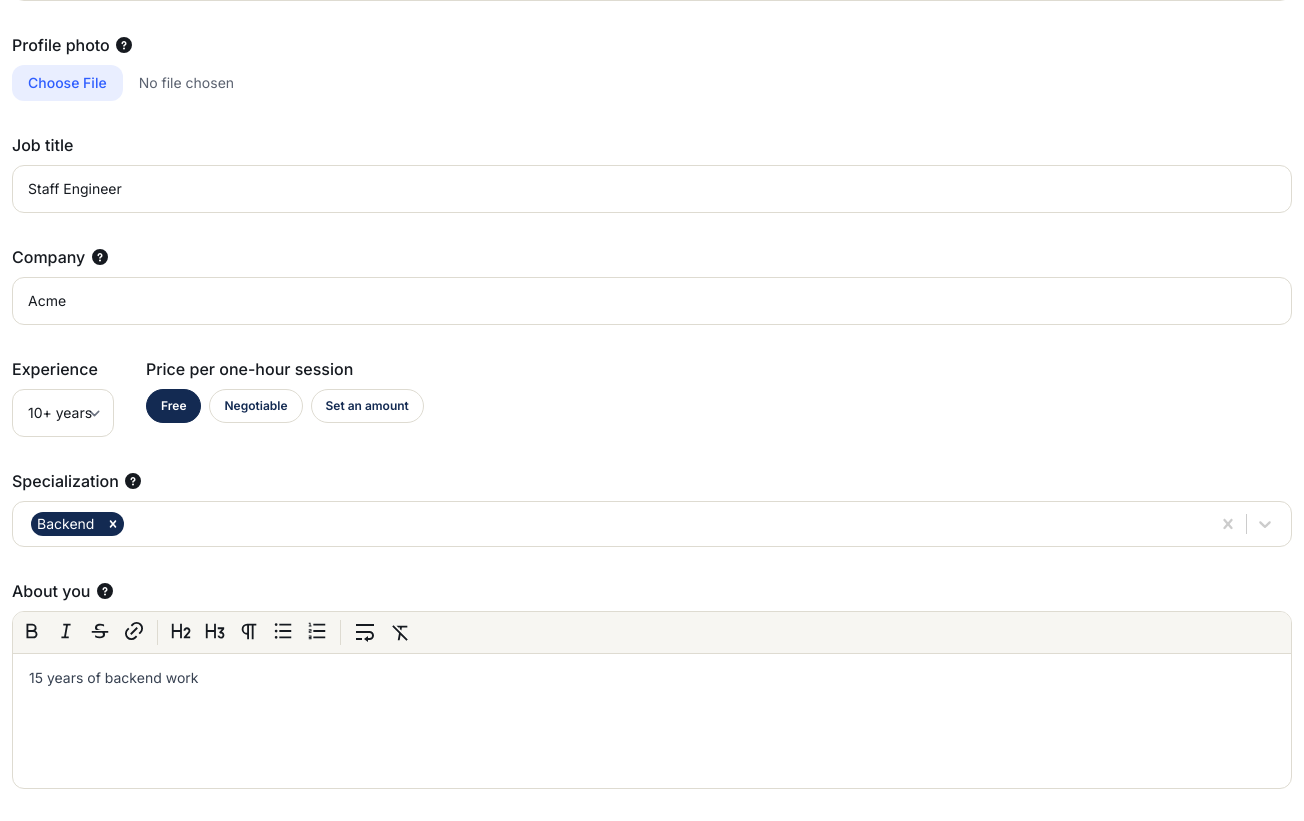
it: ProfileForm › refuses to save the out-of-range amount $
Click the radio button with aria-label "Set a fixed amount": coordinates (367, 406) top-left (310, 389), bottom-right (424, 423)
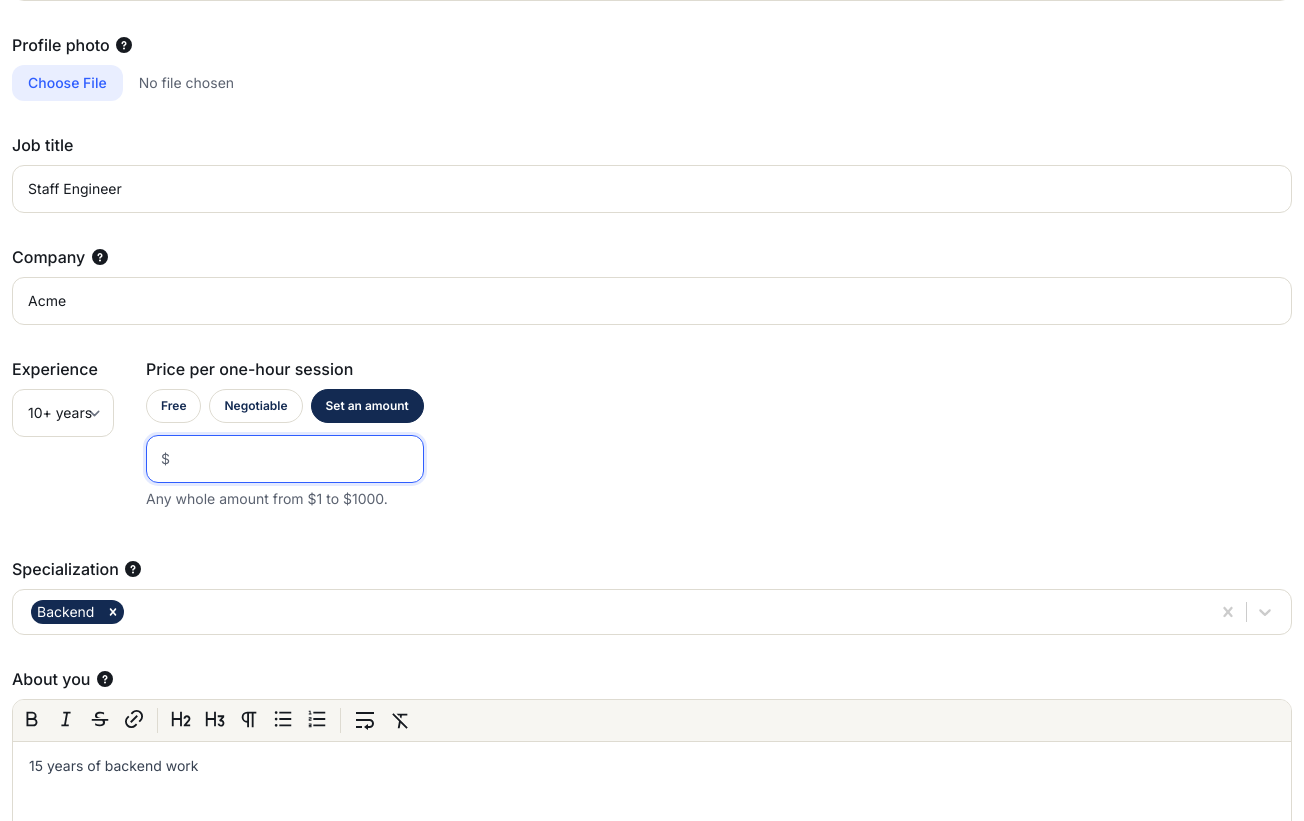
In the field named "Price in US dollars": coordinates (285, 459) top-left (146, 435), bottom-right (424, 483), type "$0"
(page scrolled)
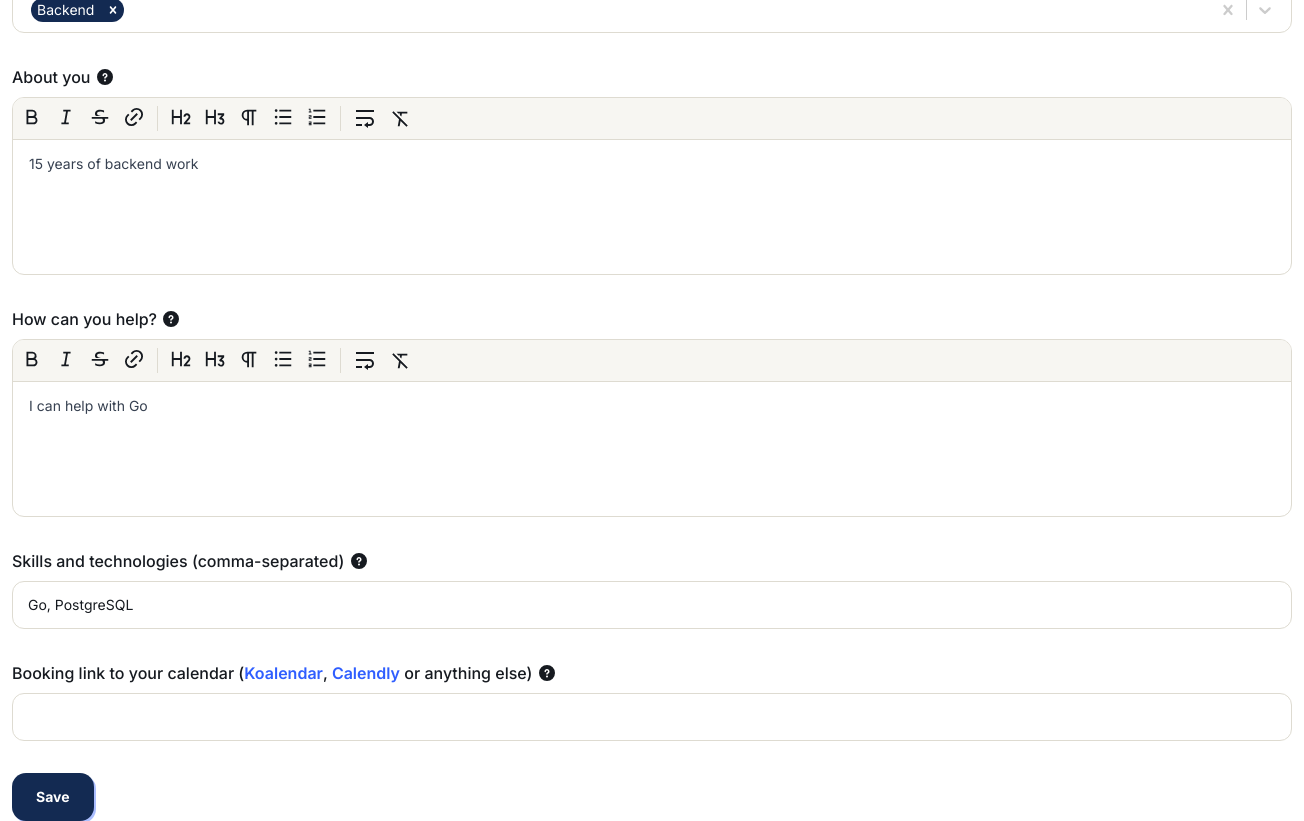
Click the button "Save": coordinates (53, 797) top-left (12, 773), bottom-right (94, 820)
(page scrolled)
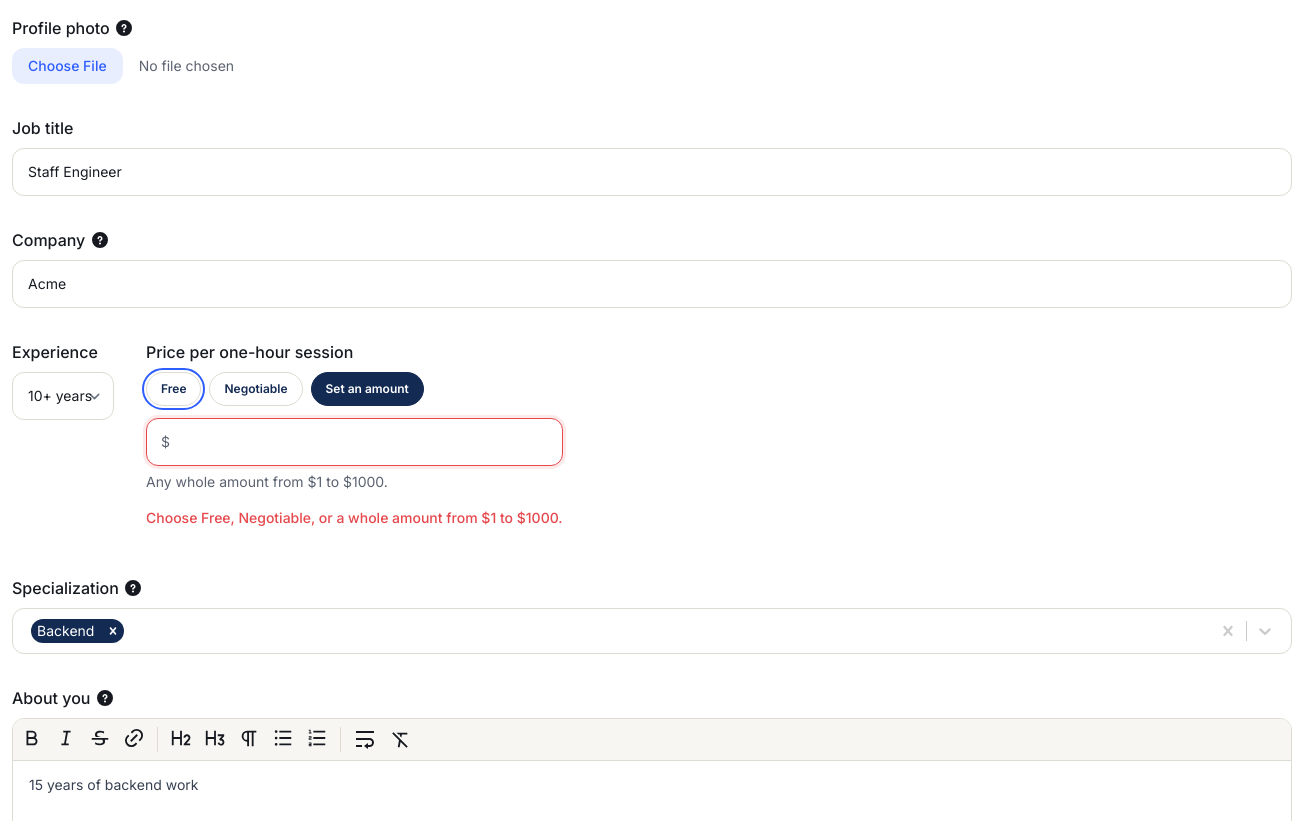
expect the message shows "whole amount from $1 to $1000": met, box top-left (146, 509), bottom-right (563, 526)
